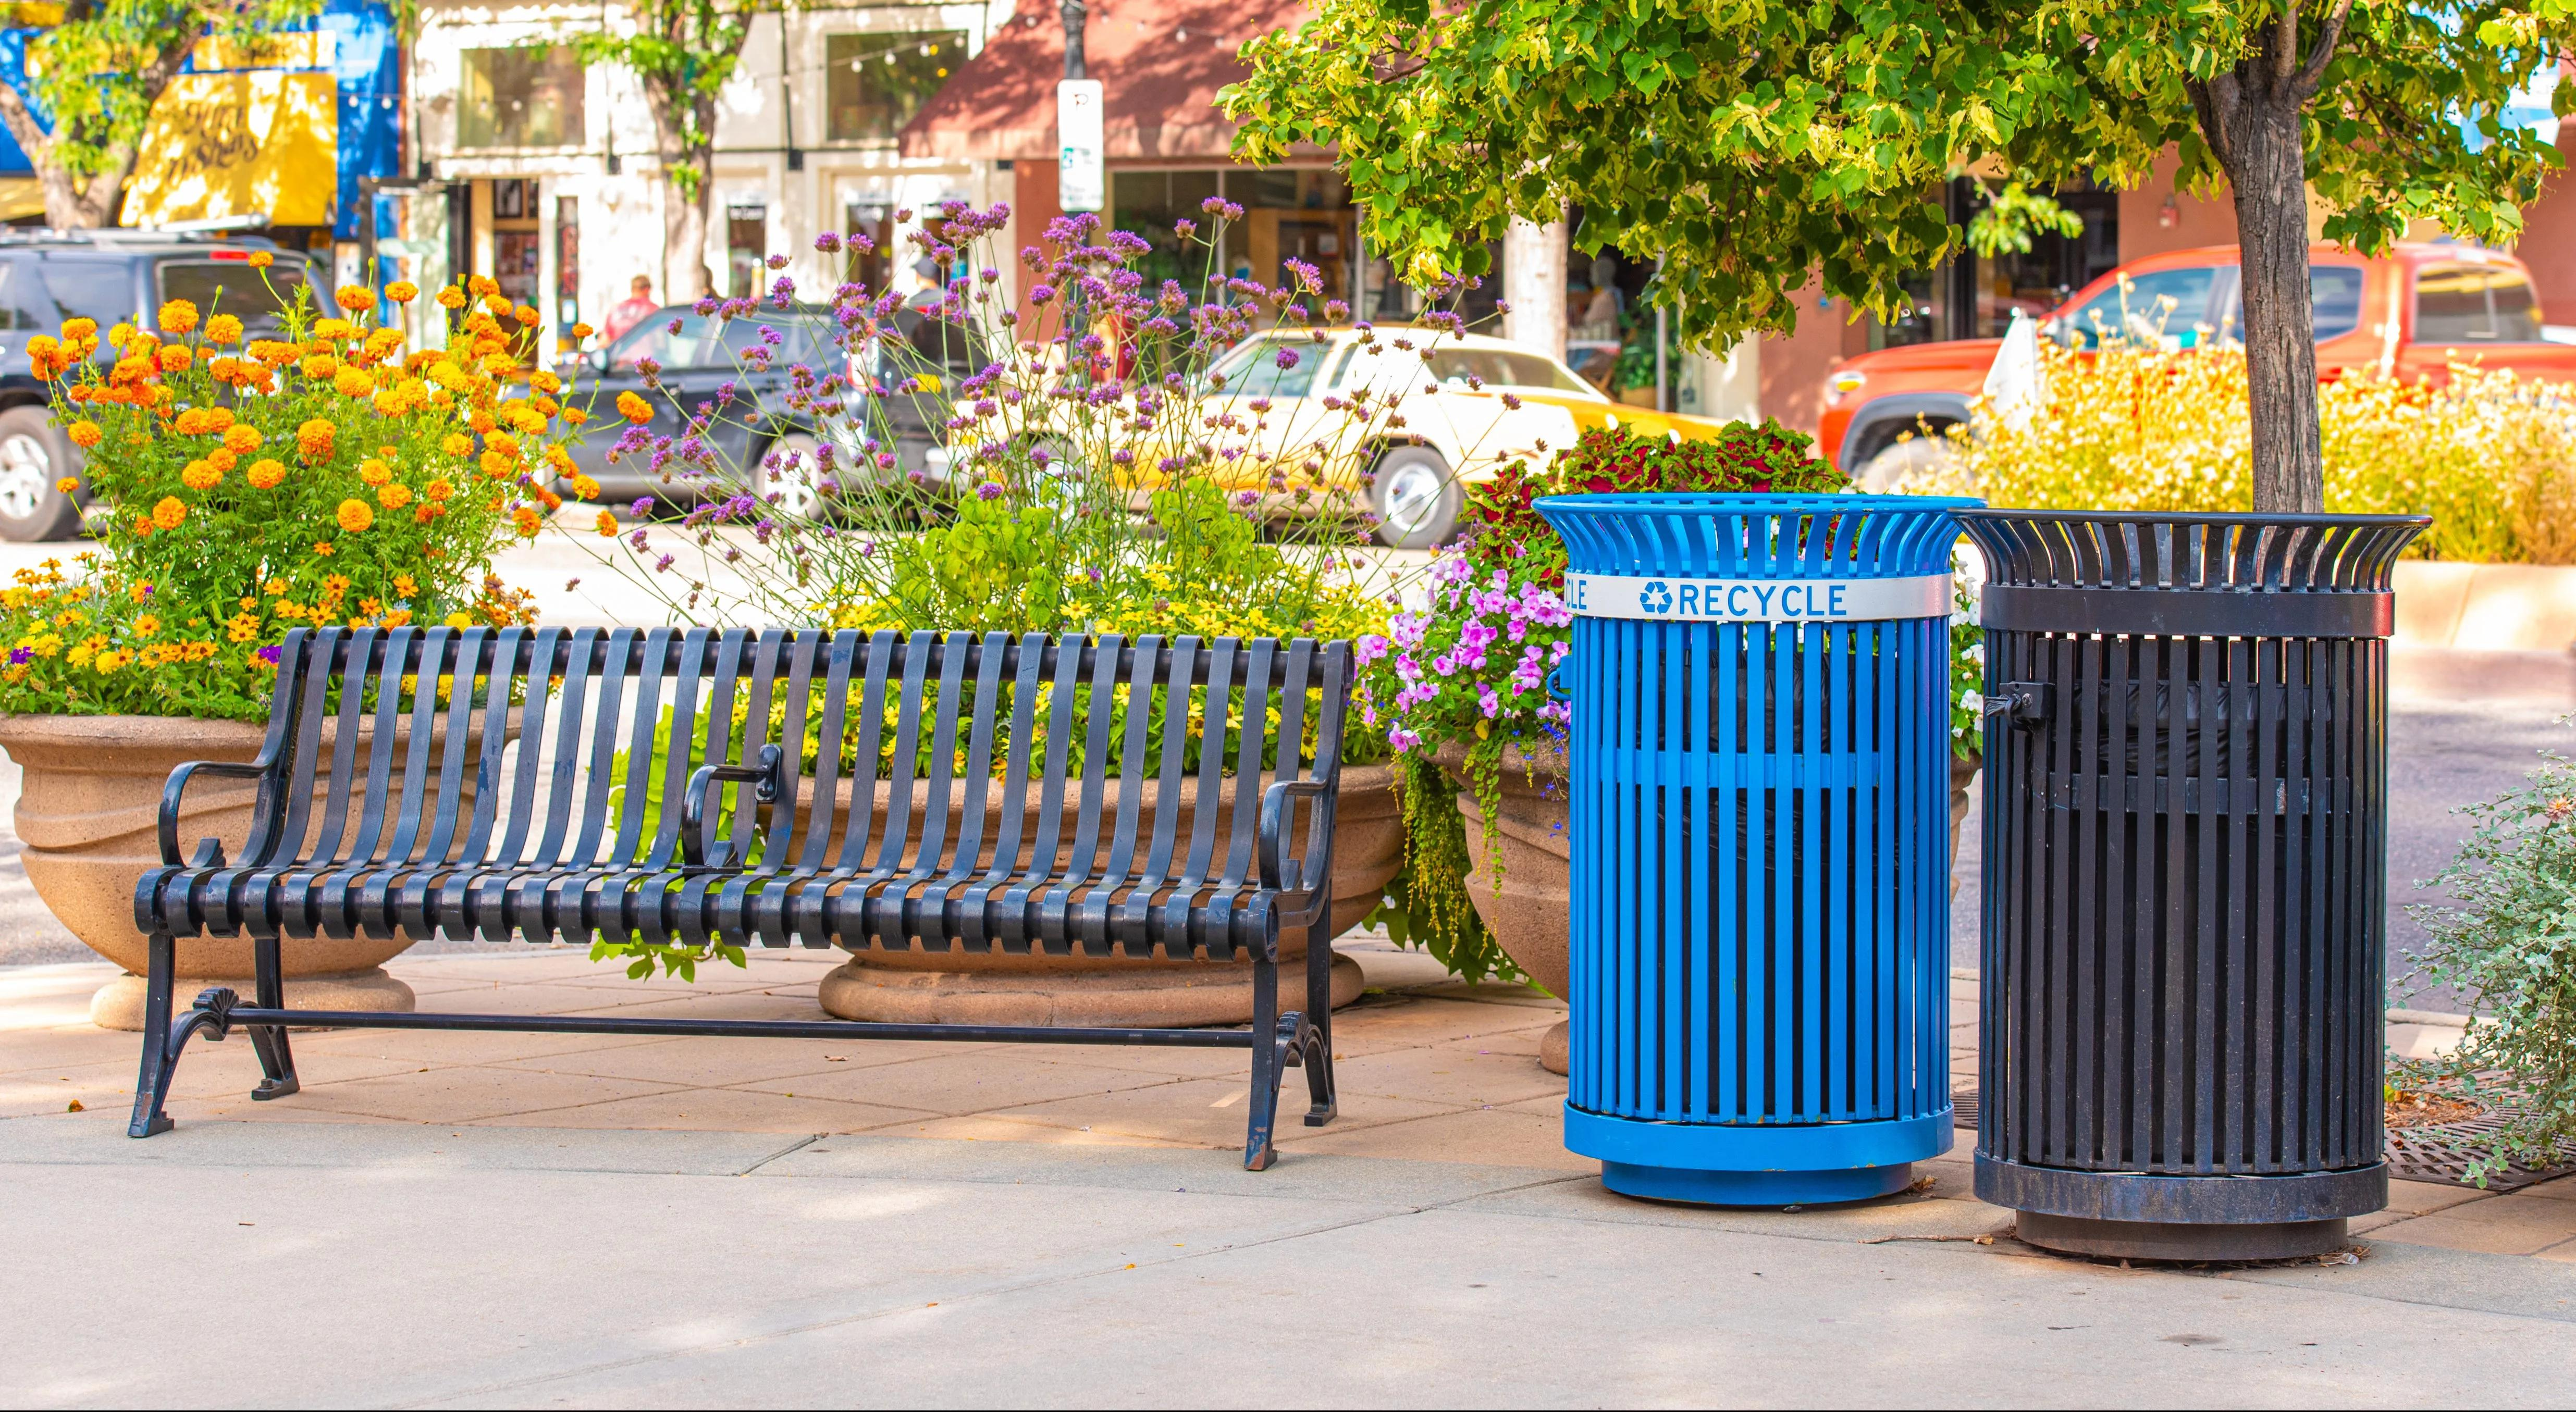trash bin: (1943, 494, 2440, 1297), (1518, 480, 1993, 1224)
